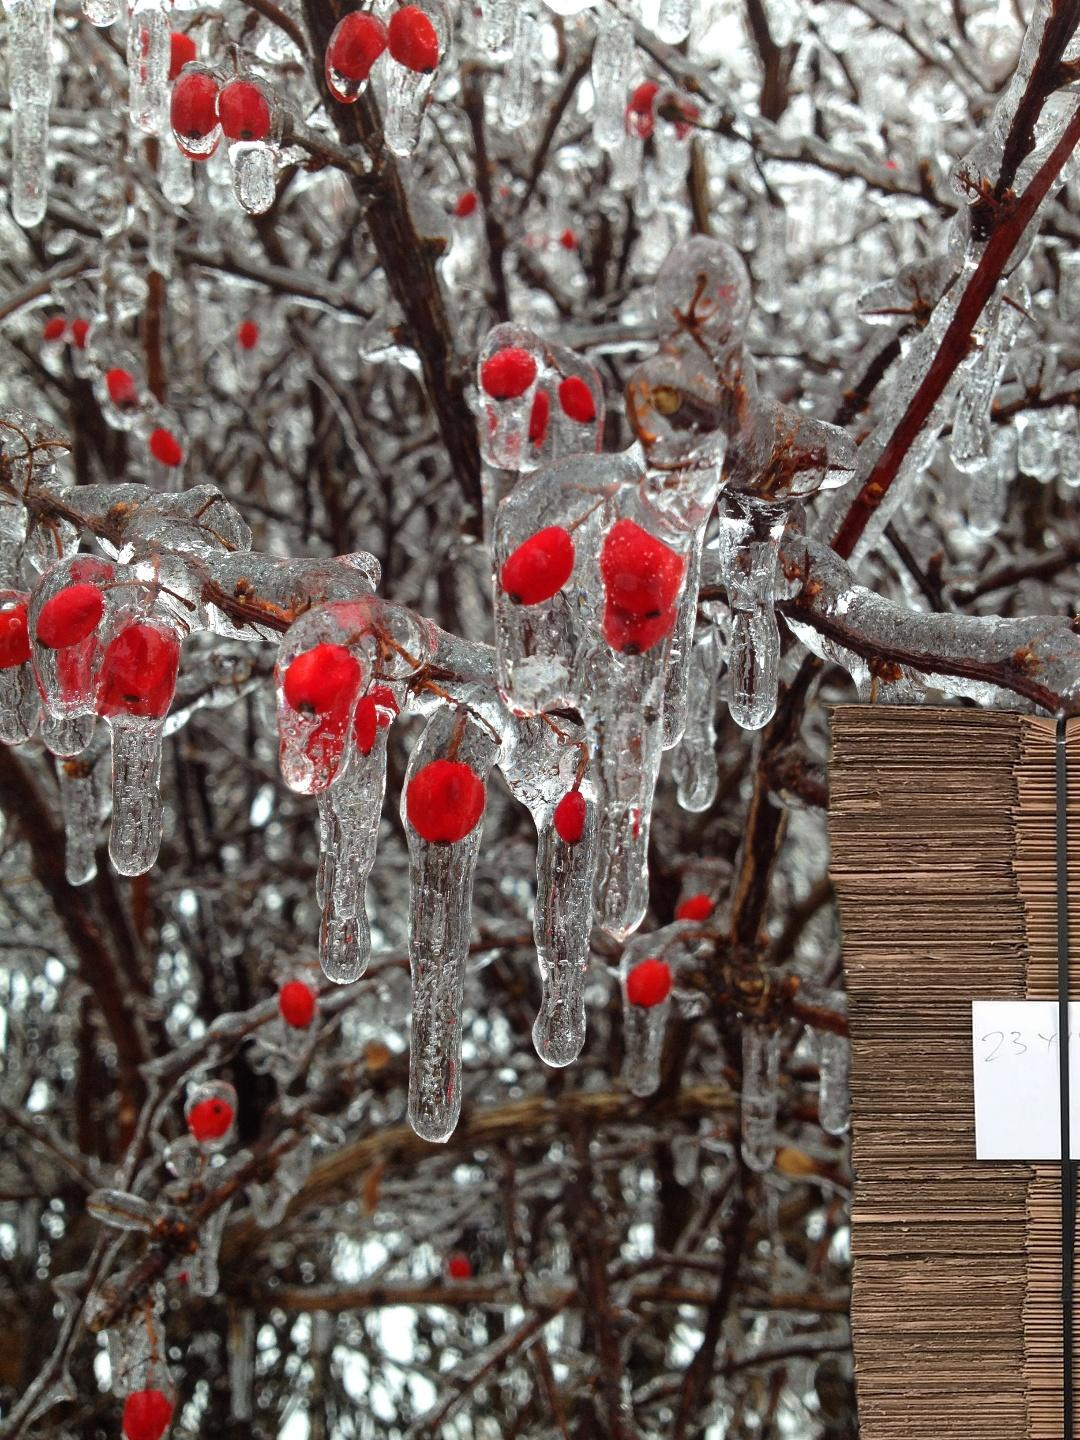trashbox-cardboard: (811, 559, 1080, 1440)
